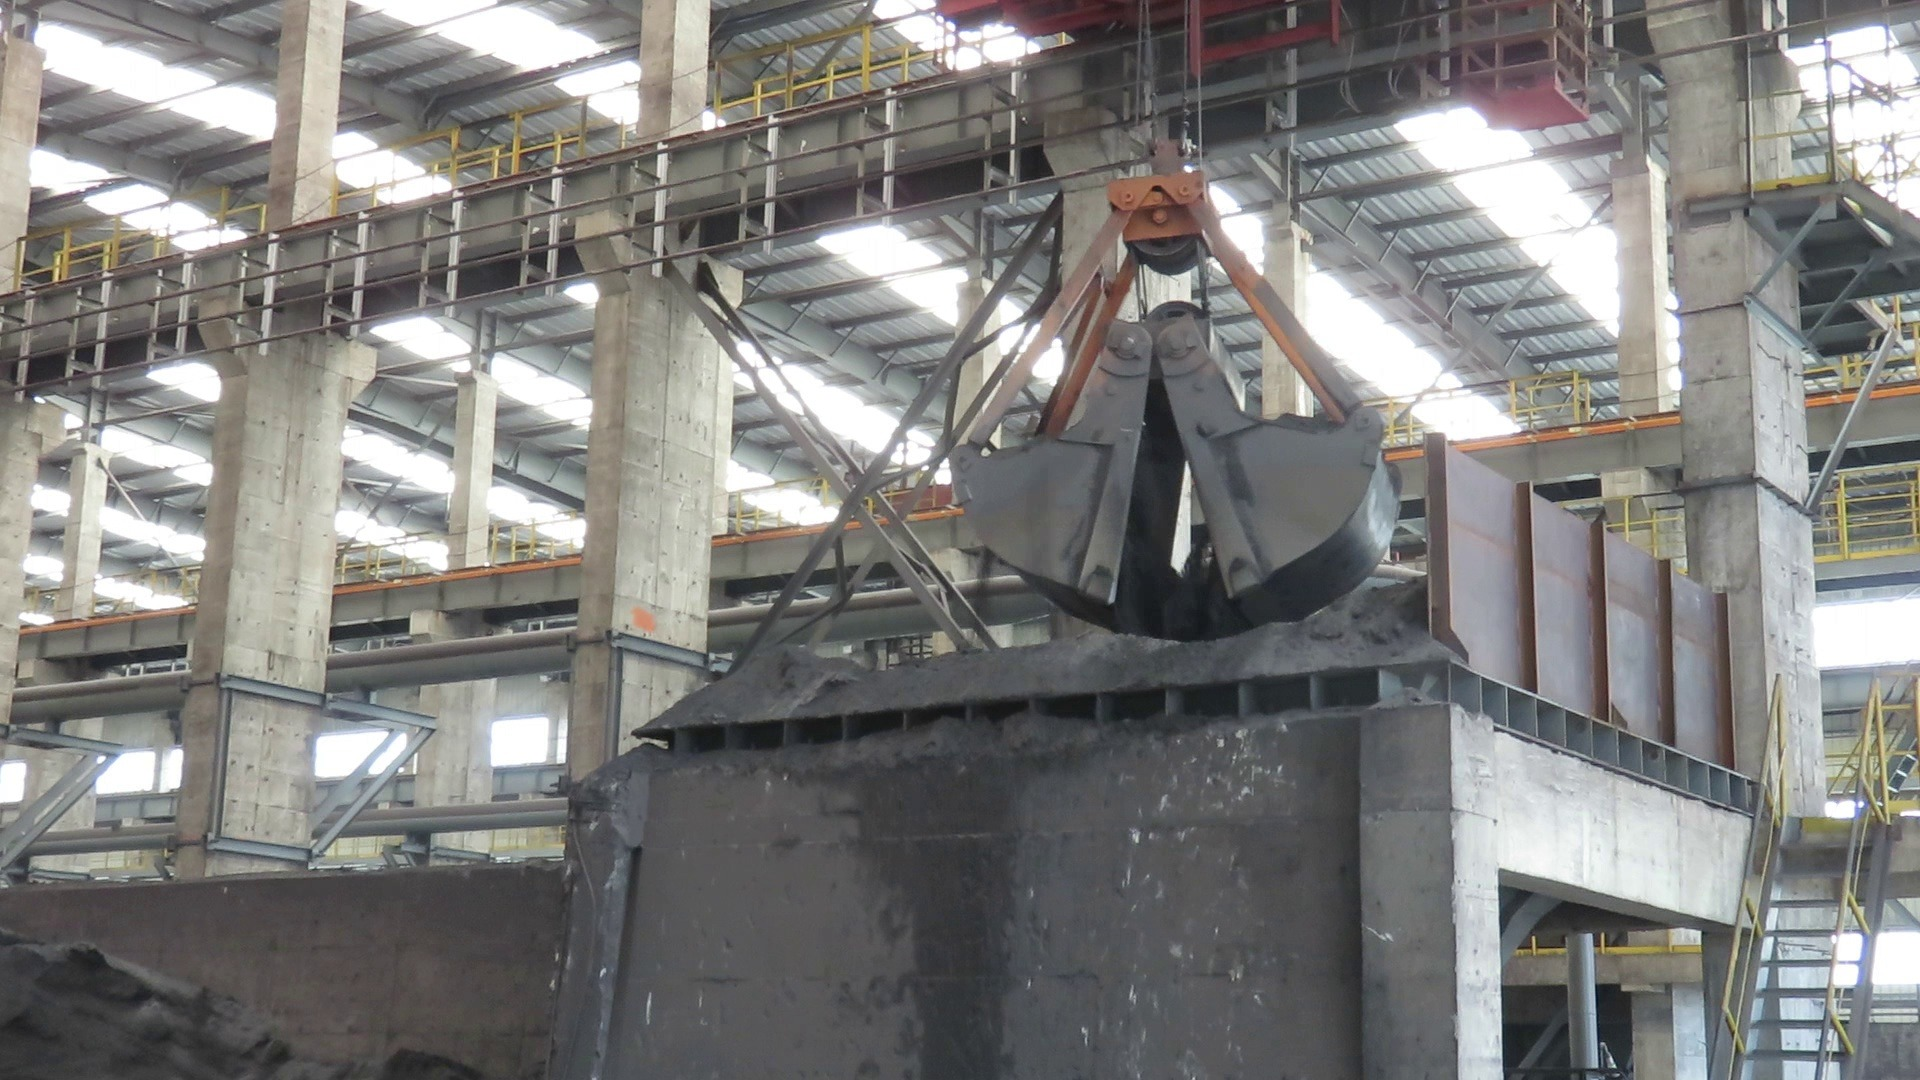grab: (935, 152, 1406, 629)
